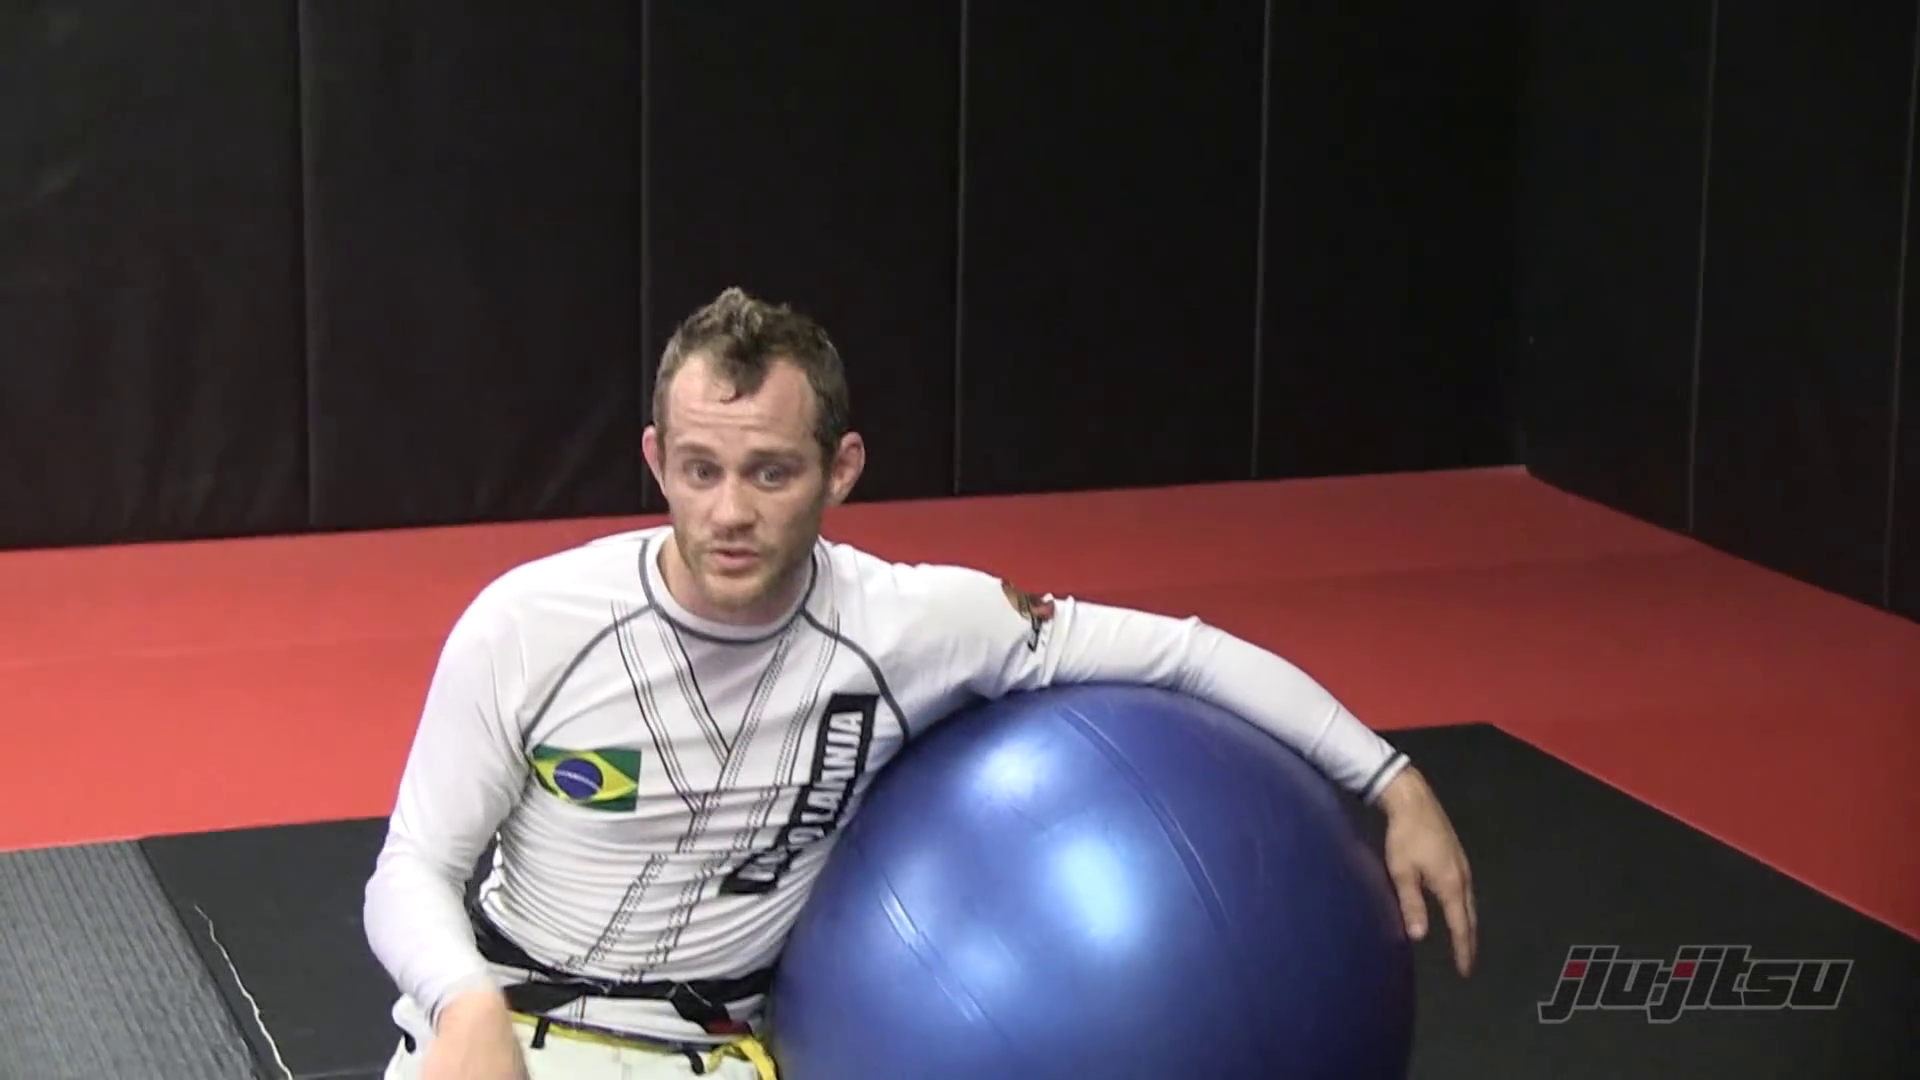yogaball: (765, 669, 1449, 1080)
